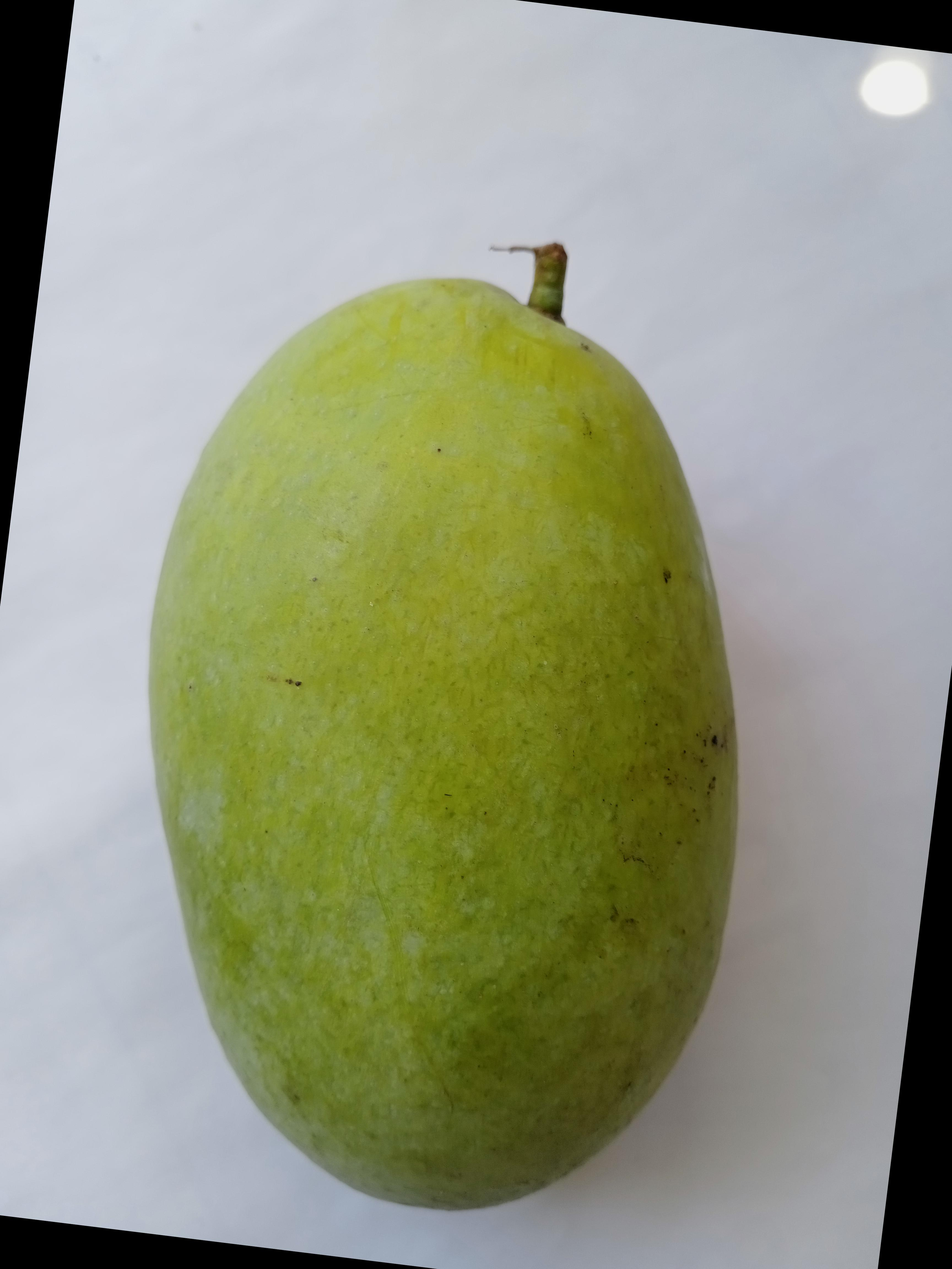Mango Unripe: (131, 49, 952, 1223)
